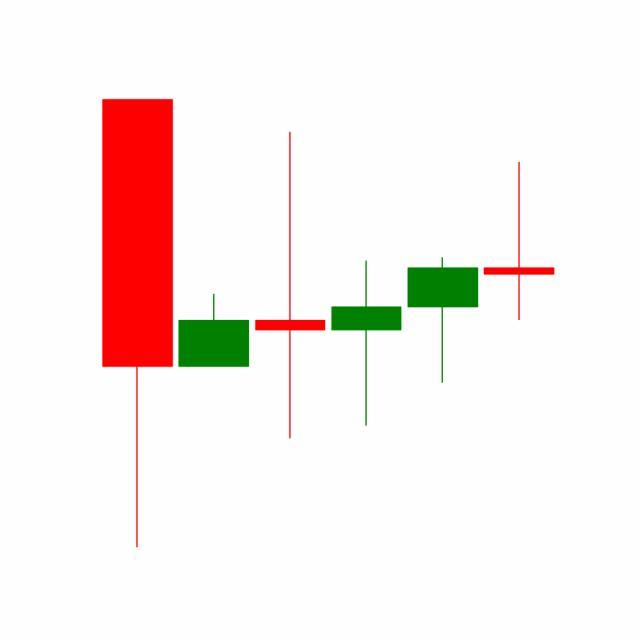Hanging Man: (404, 256, 482, 386)
